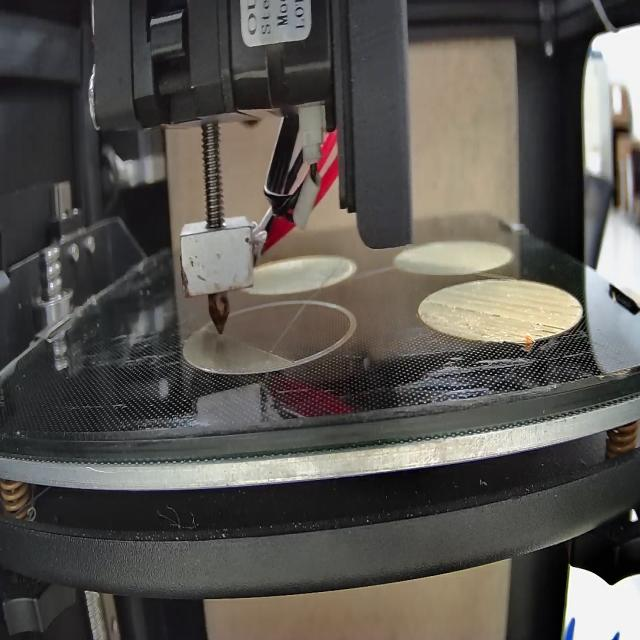under_extrusion: (427, 298, 500, 322), (532, 322, 565, 344), (567, 300, 585, 314)
